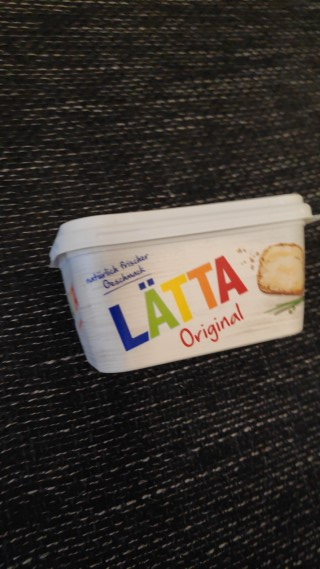laetta: (49, 192, 320, 373)
